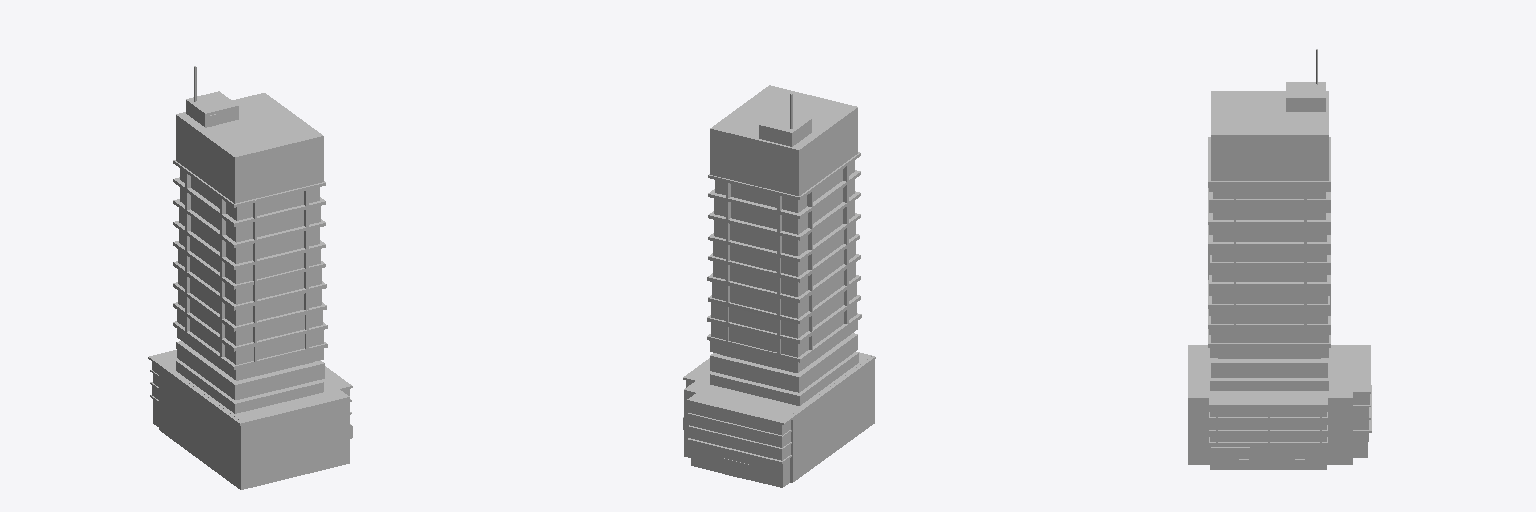
The model's file is bill_desert.obj.
3 renders of one model, left to right at view 1: azimuth 30°, elevation 25°; view 2: azimuth 150°, elevation 25°; view 3: azimuth 270°, elevation 25°, orthographic.
Visible parts, largest first — view 1: Cube.001; view 2: Cube.001; view 3: Cube.001.
Boxes of the visible parts, x1,y1,x2,y2 form: Cube.001: [148, 66, 352, 489]; Cube.001: [683, 85, 875, 487]; Cube.001: [1188, 49, 1371, 469].
Bounding box in the file's own units: 7.26 × 20.74 × 9.3.